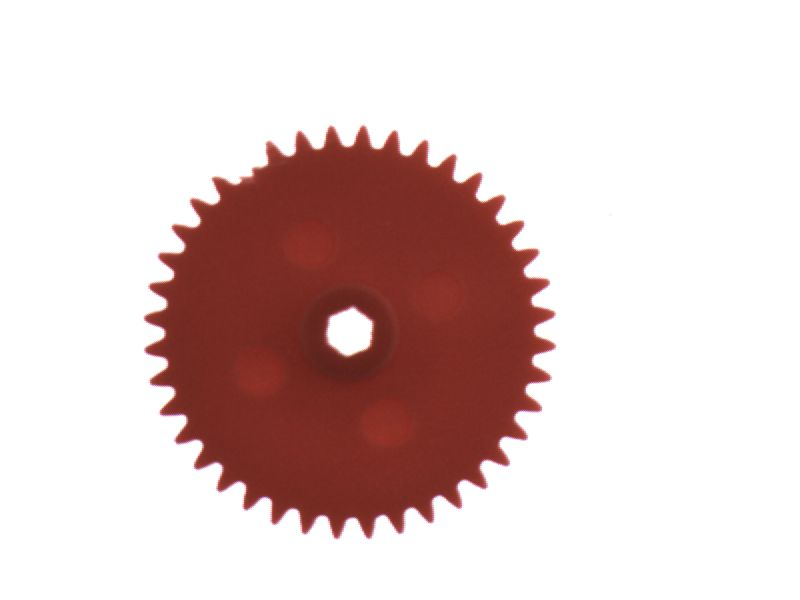defect_lack: (216, 152, 274, 188)
